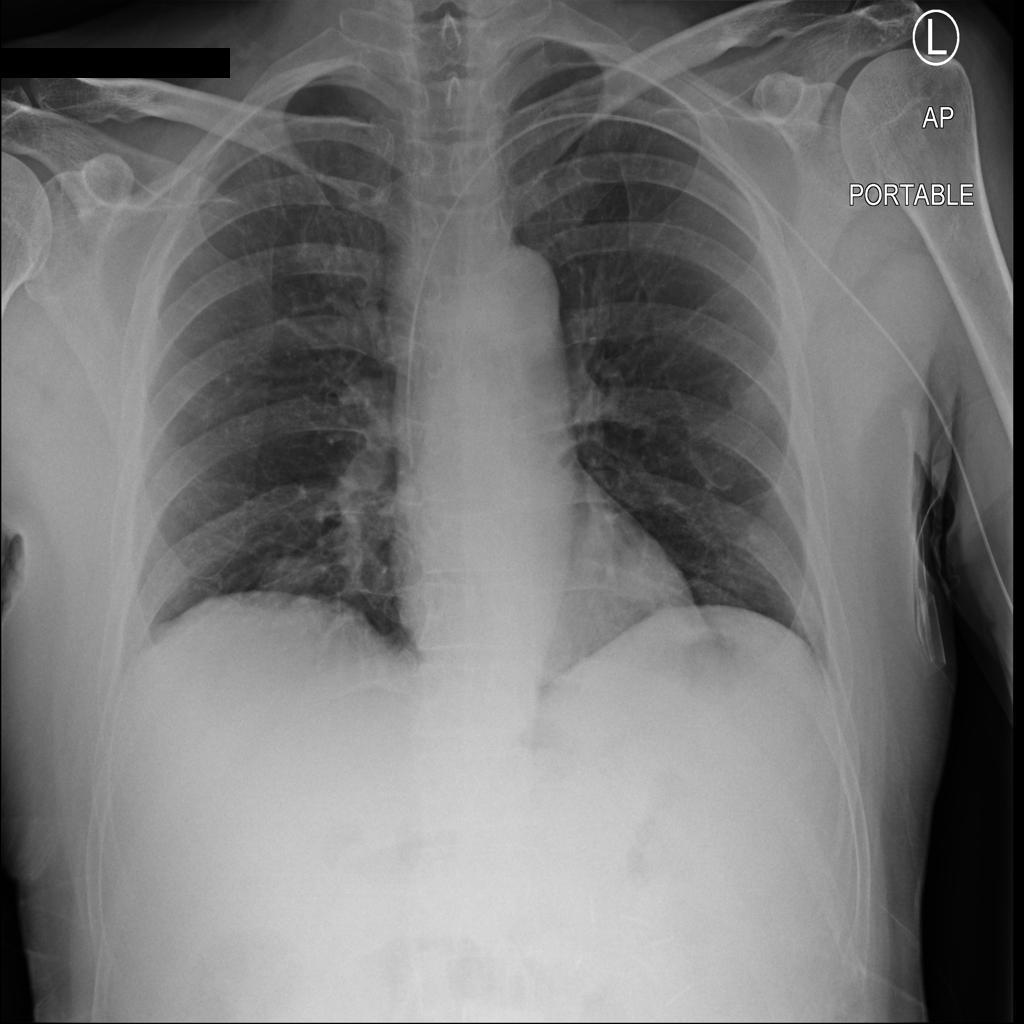nodule: (597, 519, 696, 621), (722, 350, 797, 436)
